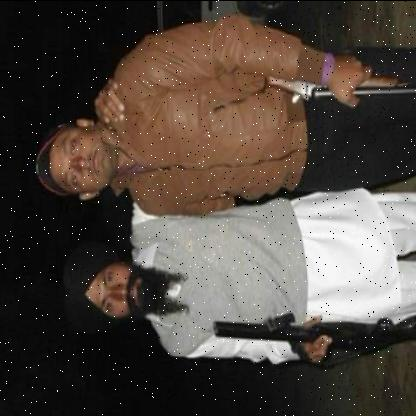rifle: (211, 307, 415, 373), (267, 66, 415, 107)
